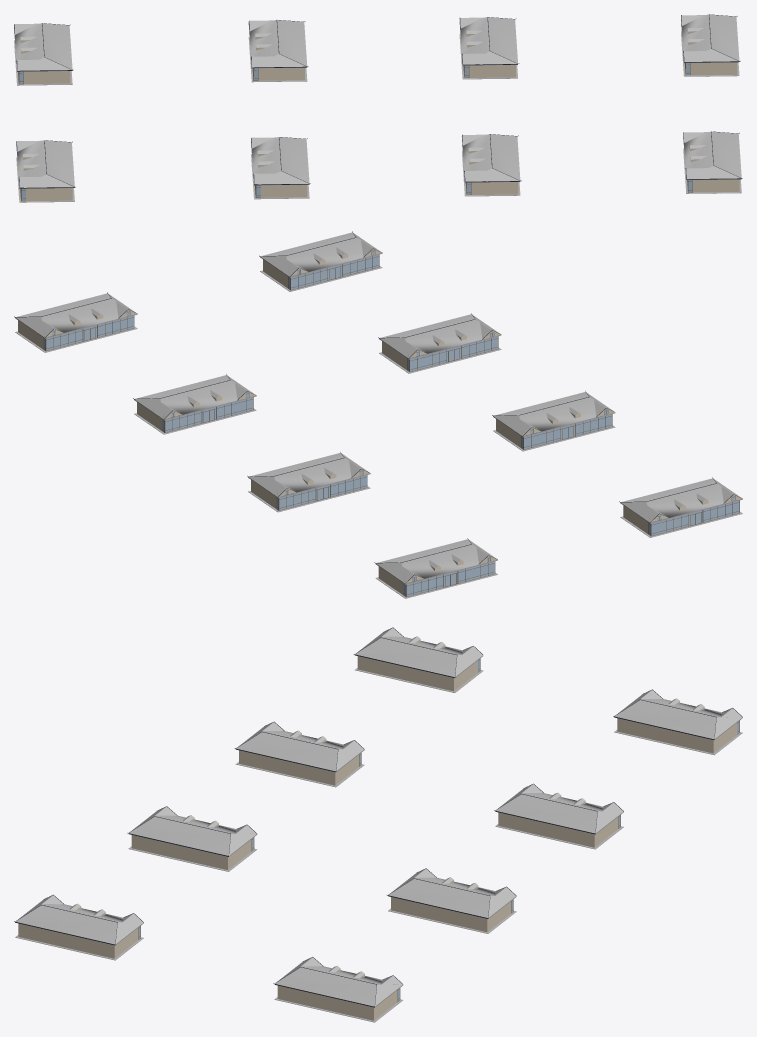
The model's file is xiaoqu4.gltf.
3 views of the same model, one above another, from view 1: azimuth 30°, elevation 25°; view 2: azimuth 150°, elevation 25°; view 3: azimuth 270°, elevation 25° (orthographic). The views are drawn at different scales.
Visible parts, largest first — view 1: dx142, dx148, dx143, dx147, dx144, dx141, dx146, dx145; view 2: dx145, dx148, dx147, dx144, dx141, dx142, dx146, dx143; view 3: dx148, dx141, dx144, dx143, dx147, dx146, dx142, dx145.
Part boxes in pixels (left/top/right/bottom): dx142: left=683, top=131, right=742, bottom=193; dx148: left=681, top=14, right=740, bottom=76; dx143: left=251, top=137, right=310, bottom=199; dx147: left=459, top=17, right=519, bottom=79; dx144: left=16, top=140, right=75, bottom=202; dx141: left=462, top=134, right=521, bottom=196; dx146: left=248, top=20, right=308, bottom=82; dx145: left=14, top=23, right=73, bottom=85; dx145: left=374, top=538, right=497, bottom=598; dx148: left=14, top=292, right=137, bottom=352; dx147: left=133, top=374, right=256, bottom=434; dx144: left=619, top=477, right=742, bottom=537; dx141: left=378, top=313, right=501, bottom=373; dx142: left=259, top=231, right=382, bottom=291; dx146: left=247, top=452, right=370, bottom=512; dx143: left=492, top=391, right=615, bottom=451; dx148: left=273, top=957, right=403, bottom=1022; dx141: left=127, top=806, right=257, bottom=871; dx144: left=353, top=627, right=483, bottom=692; dx143: left=234, top=721, right=364, bottom=787; dx147: left=387, top=868, right=516, bottom=933; dx146: left=494, top=783, right=623, bottom=849; dx142: left=14, top=894, right=143, bottom=960; dx145: left=613, top=689, right=742, bottom=755.
Size of the model in its own units: 1168 by 35.37 by 959.
